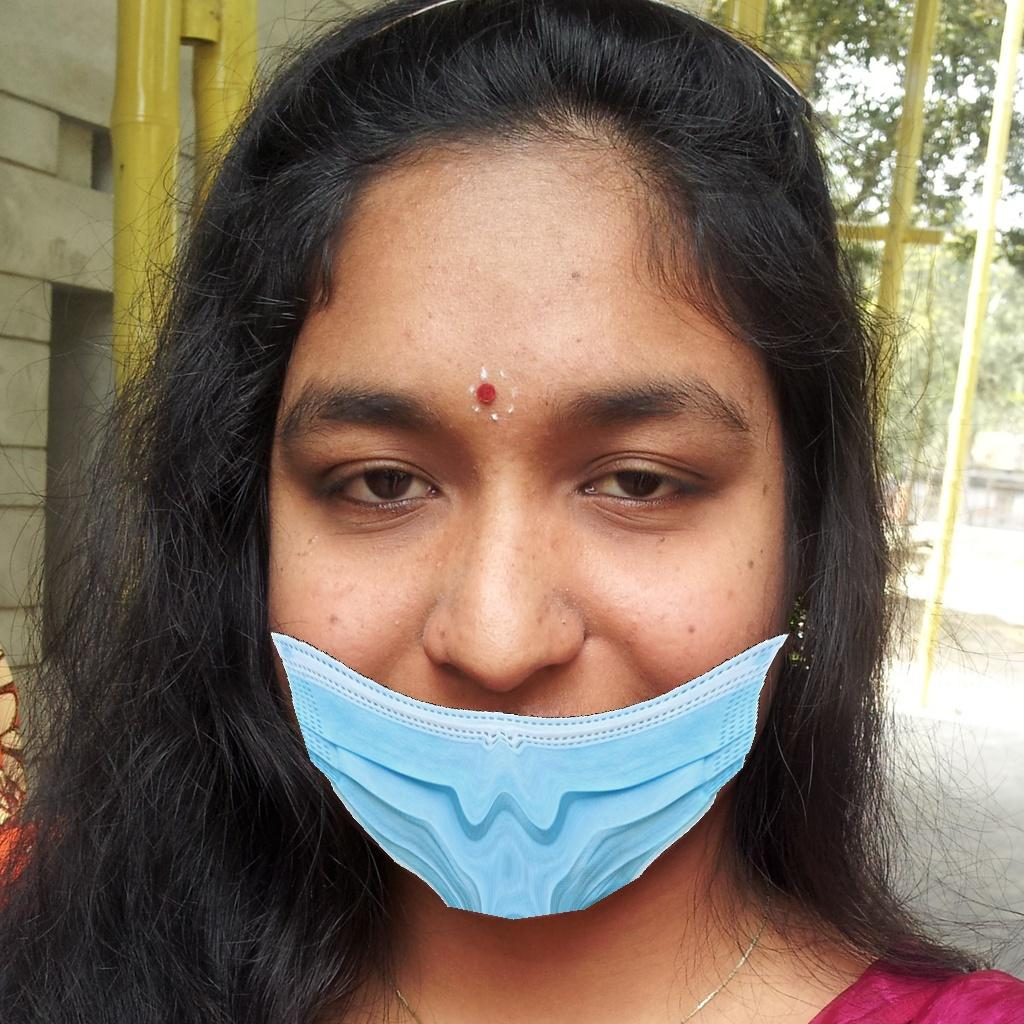Máscara Incorreta: (273, 300, 779, 909)
